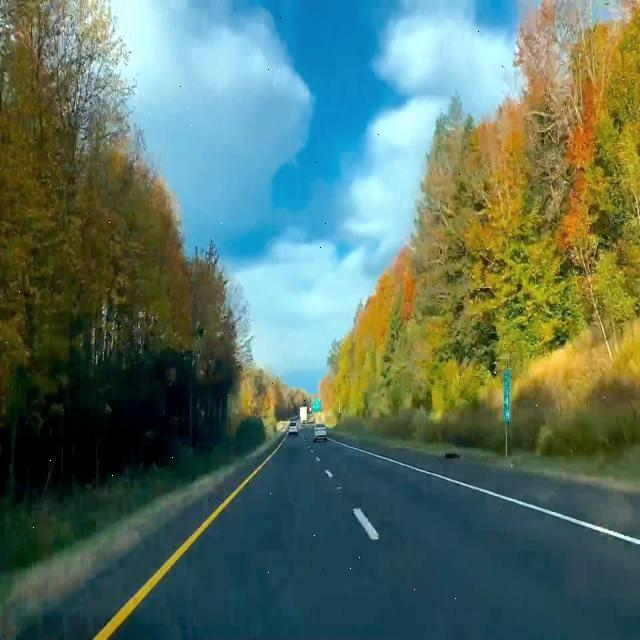lane: (93, 441, 282, 639), (328, 437, 639, 545), (354, 509, 378, 539)
road: (112, 431, 639, 639)
